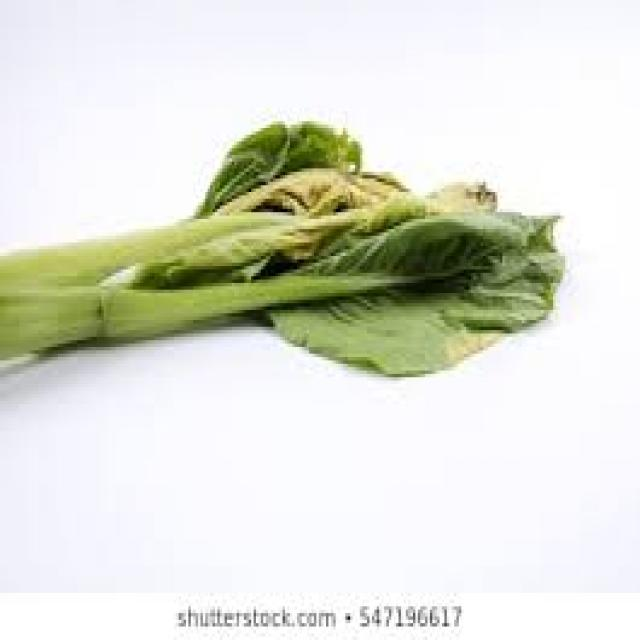organic waste: (0, 121, 563, 374), (263, 212, 565, 371), (196, 118, 362, 215)
